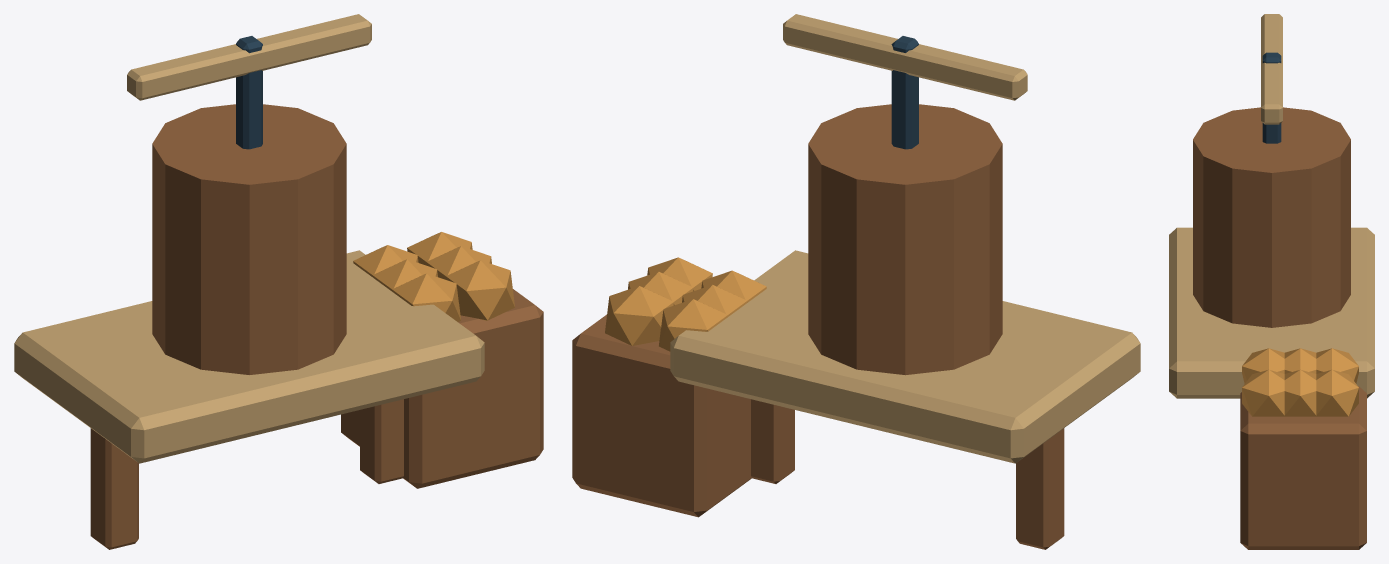
File: orchard_press.glb
3 views of the same model, side by side, from view 1: azimuth 30°, elevation 25°; view 2: azimuth 150°, elevation 25°; view 3: azimuth 270°, elevation 25° (orthographic). The views are drawn at different scales.
Parts seen in each view (by area): view 1: table; view 2: table; view 3: table.
Boxes of the visible parts, x1,y1,x2,y2 form: table: (14, 14, 543, 549); table: (572, 14, 1140, 549); table: (1169, 14, 1374, 549).
Bounding box in the file's own units: 1.35 × 1.35 × 0.65.
